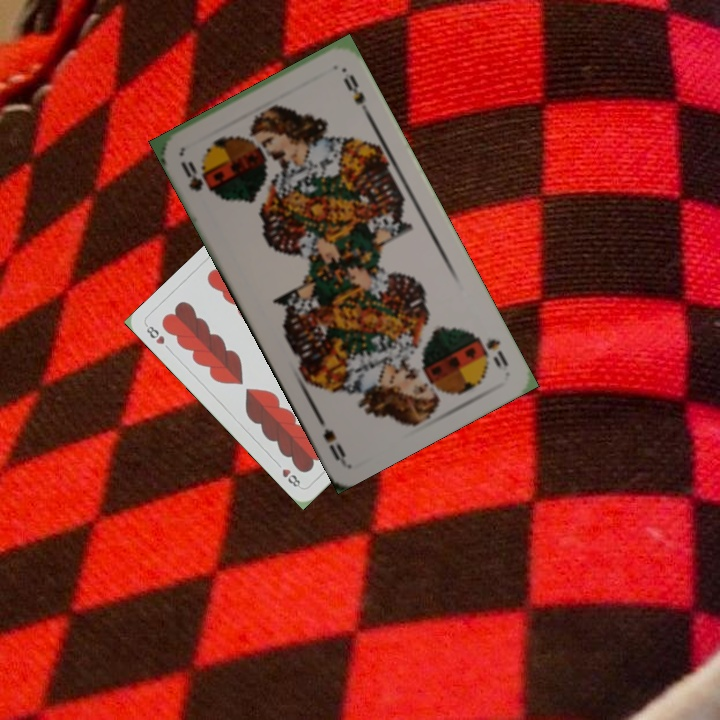H8: (142, 321, 167, 347)
SO: (176, 156, 215, 197), (482, 335, 511, 371)
